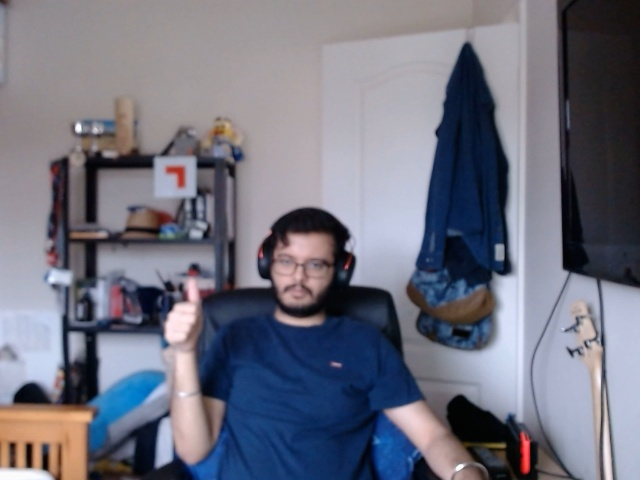Thumbs up: (160, 273, 209, 369)
